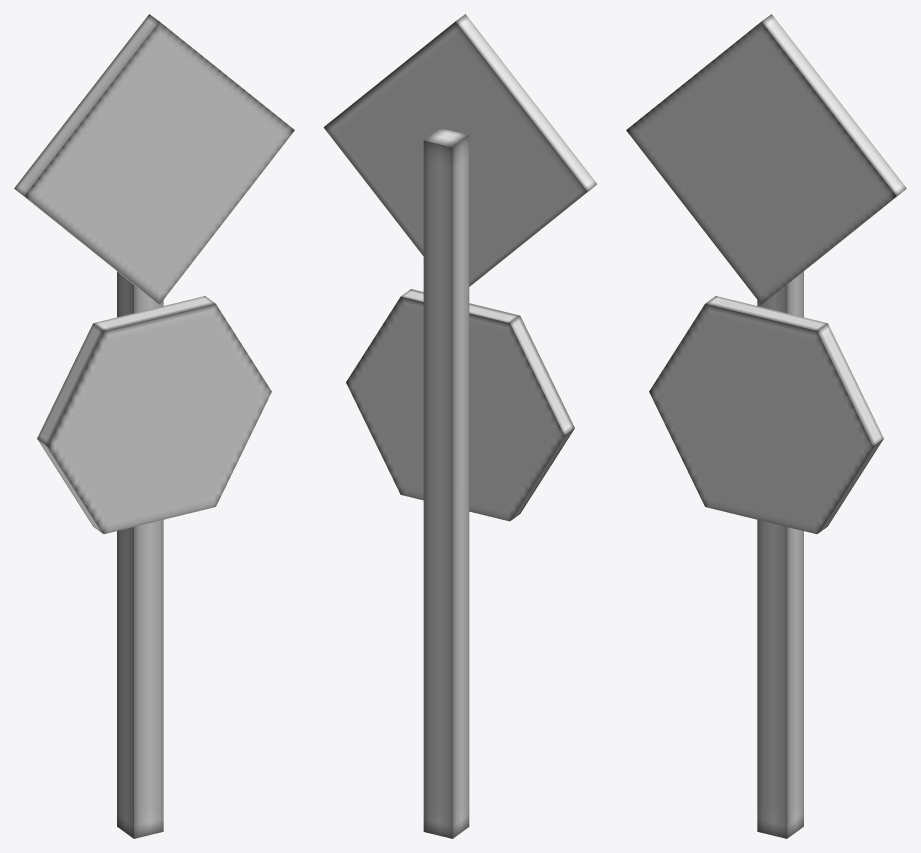
Rendered from Sign-04.fbx.
3 views of the same model, side by side, from view 1: azimuth 30°, elevation 25°; view 2: azimuth 150°, elevation 25°; view 3: azimuth 330°, elevation 25° (orthographic). The views are drawn at different scales.
Visible parts, largest first — view 1: Sign_04; view 2: Sign_04; view 3: Sign_04.
Part boxes in pixels (box(x1,y1,x2,y2)): Sign_04: box(14, 14, 294, 838); Sign_04: box(323, 14, 597, 838); Sign_04: box(626, 14, 906, 838).
Bounding box in the file's own units: 0.4342 × 1.26 × 0.0782.
